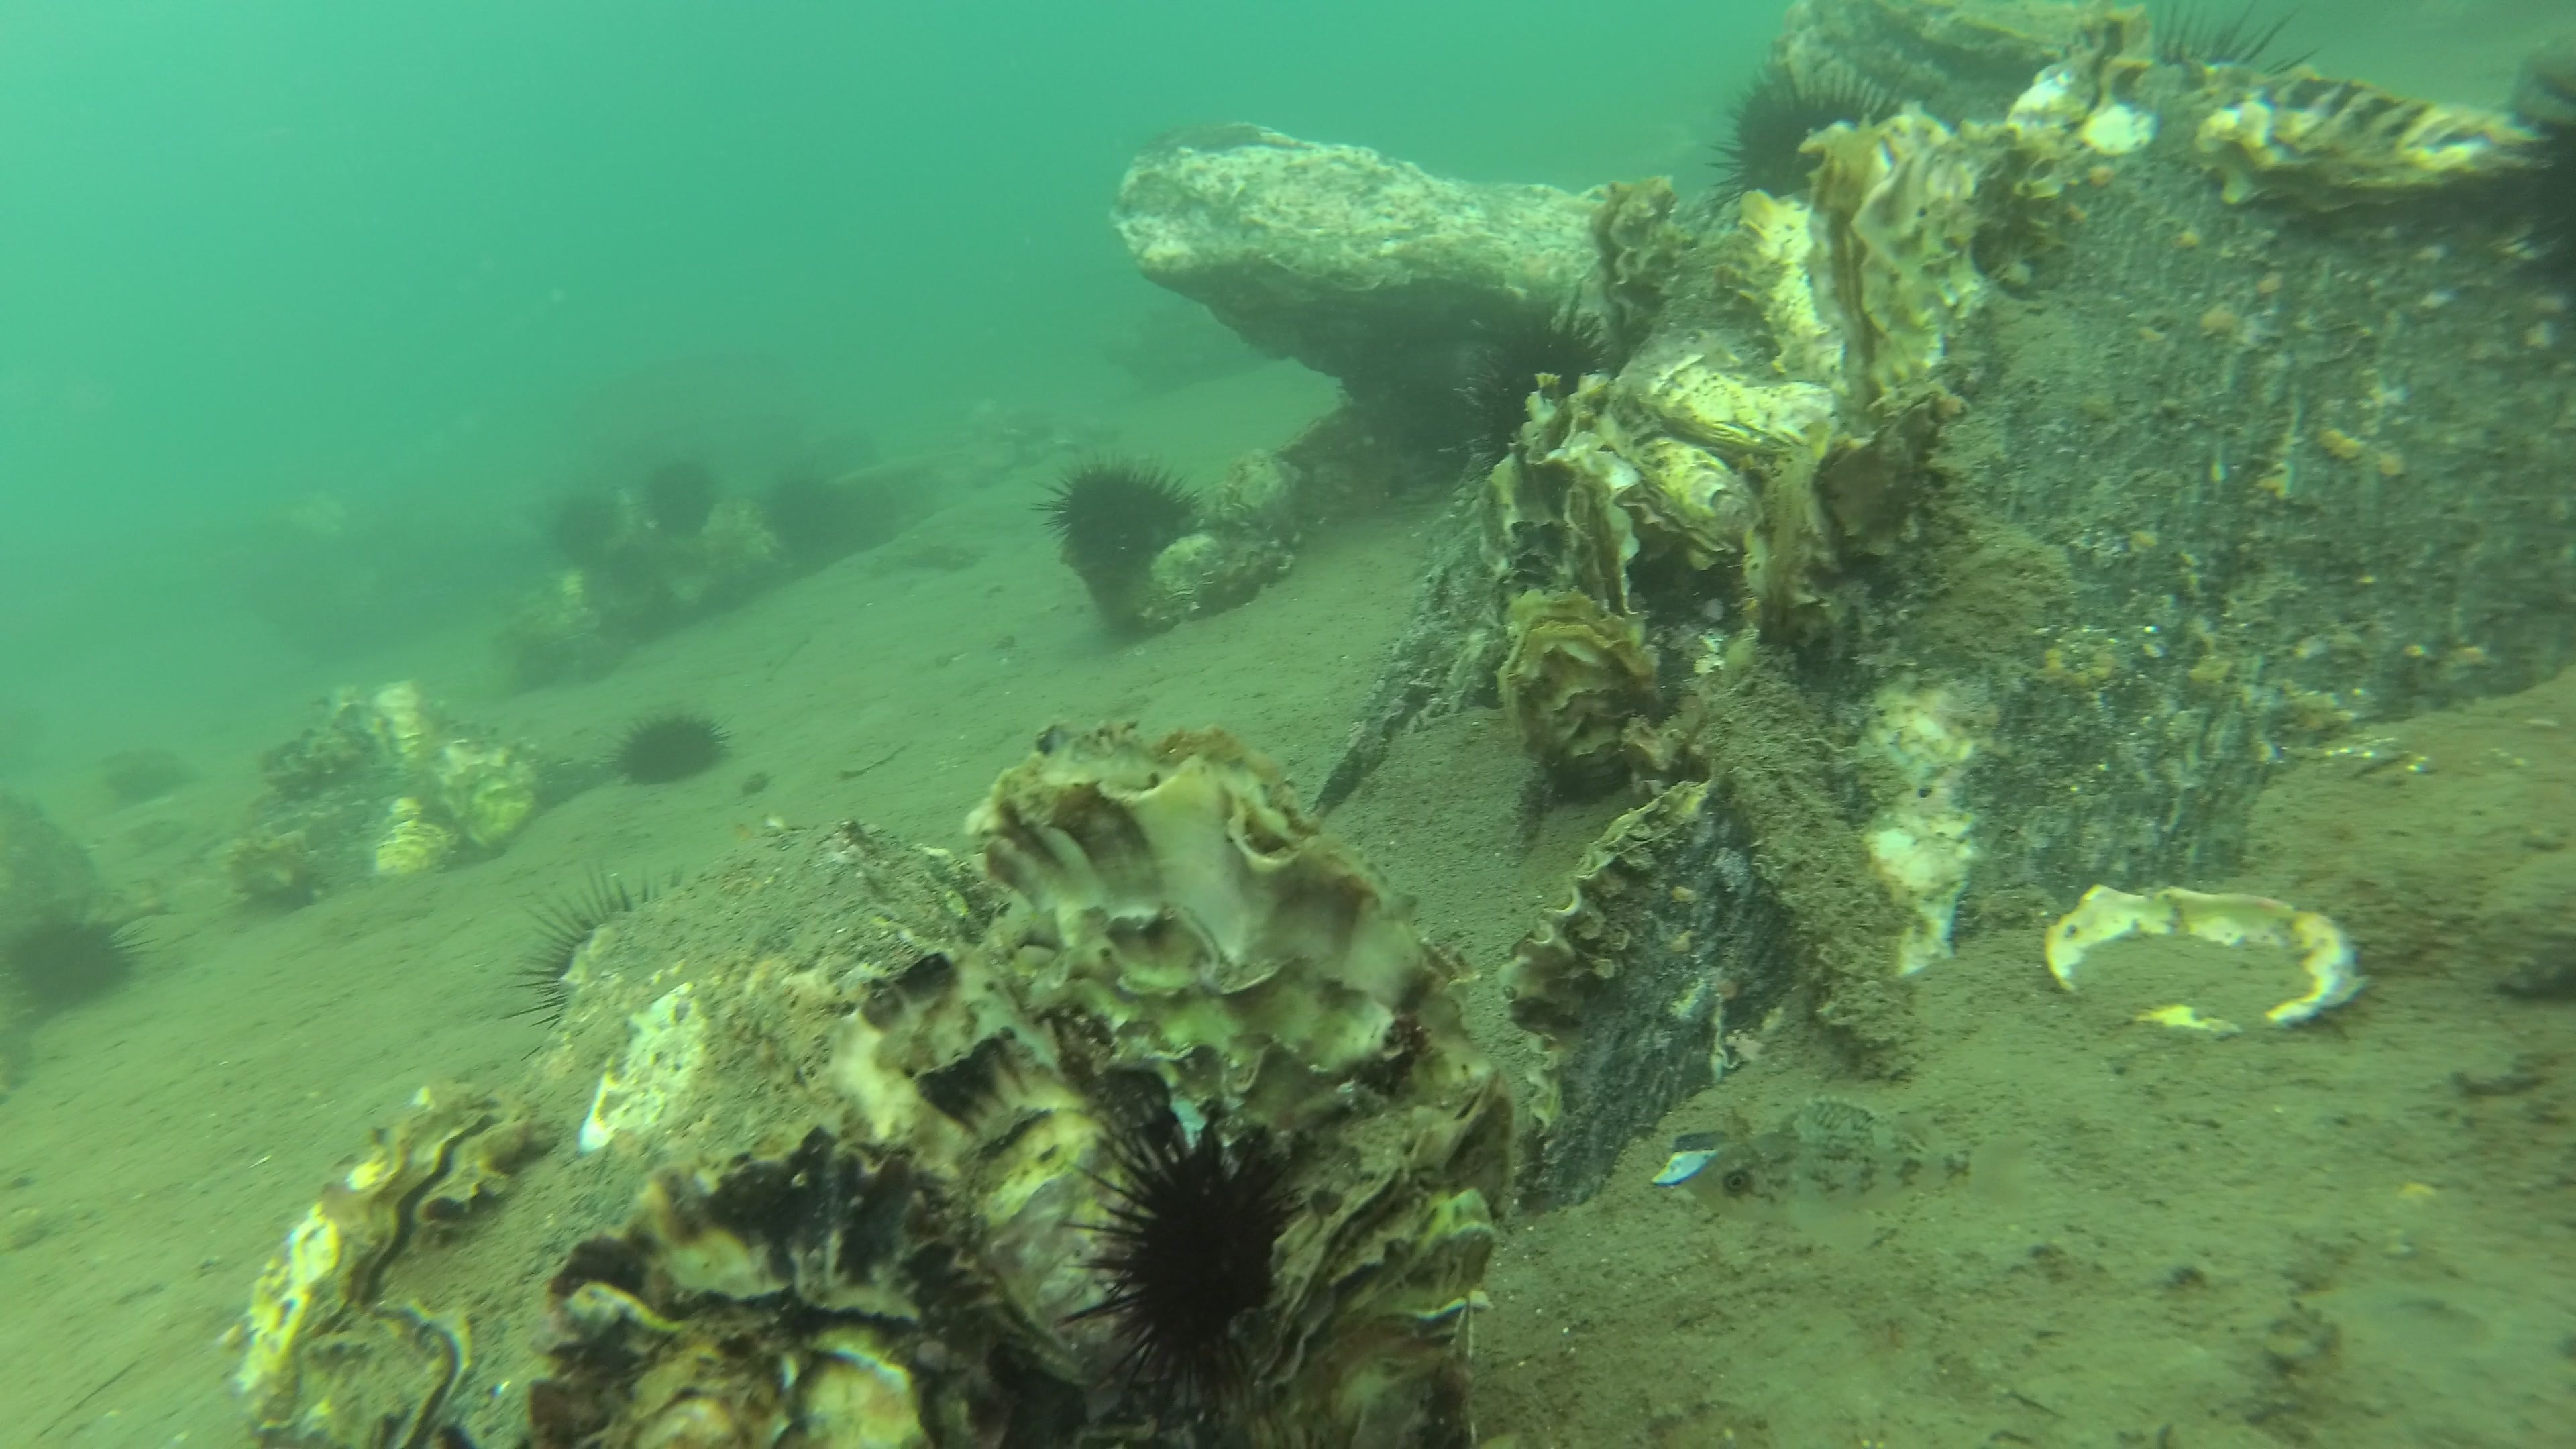echinus: (1049, 1083, 1318, 1421), (497, 855, 690, 1063), (1706, 55, 1964, 211), (1465, 283, 1619, 492), (1028, 446, 1210, 580), (0, 909, 168, 1016), (2146, 0, 2325, 76), (598, 709, 741, 786), (630, 451, 724, 540), (763, 465, 849, 556), (550, 487, 625, 571), (609, 541, 648, 584)
